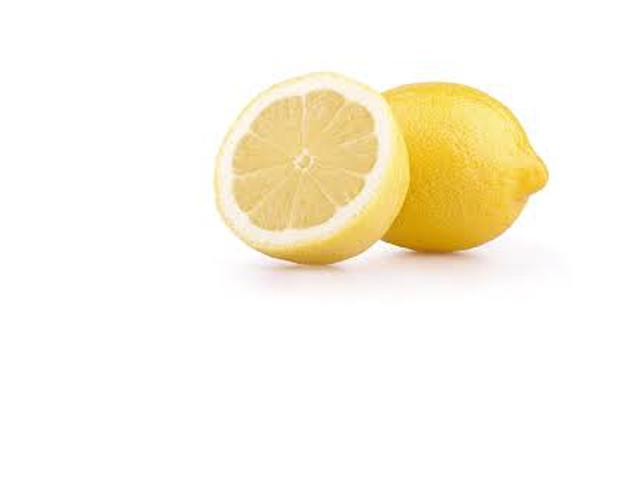lemon: (349, 70, 555, 272)
